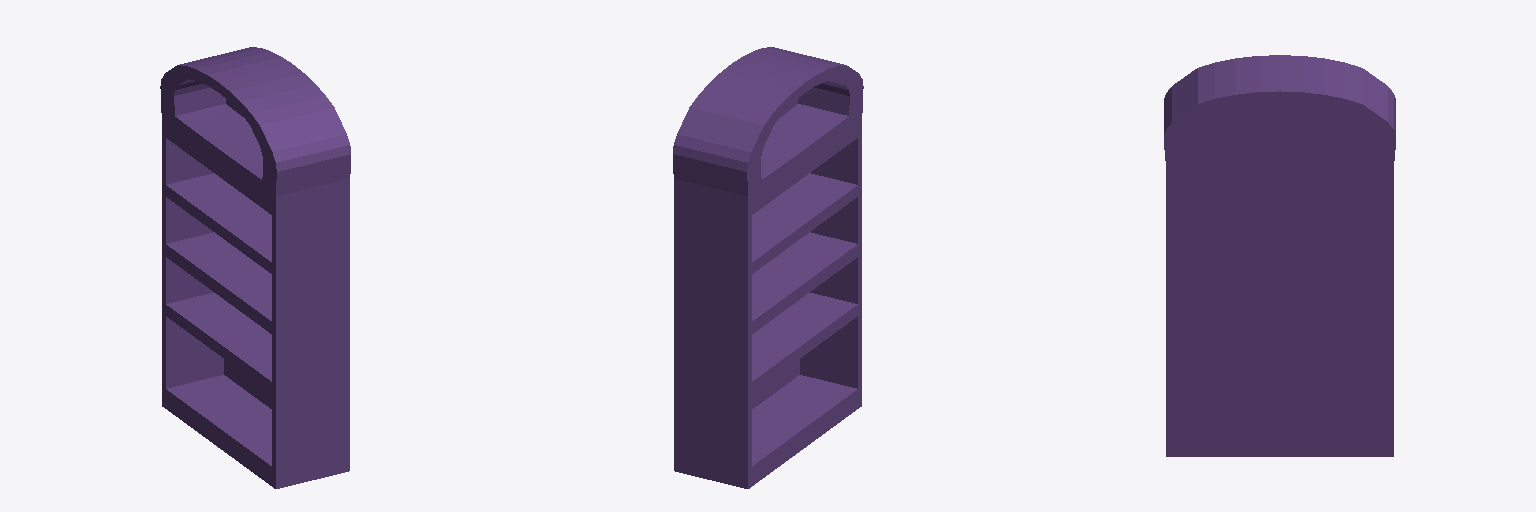
3 renders of one model, left to right at view 1: azimuth 30°, elevation 25°; view 2: azimuth 150°, elevation 25°; view 3: azimuth 270°, elevation 25°, orthographic.
Parts seen in each view (by area): view 1: Cilindro; view 2: Cilindro; view 3: Cilindro.
Boxes of the visible parts, x1,y1,x2,y2 form: Cilindro: [160, 47, 350, 488]; Cilindro: [673, 47, 863, 488]; Cilindro: [1164, 55, 1395, 456].
Bounding box in the file's own units: 4.97 × 23.25 × 13.44.
Materials: 1 (1 with a texture image).